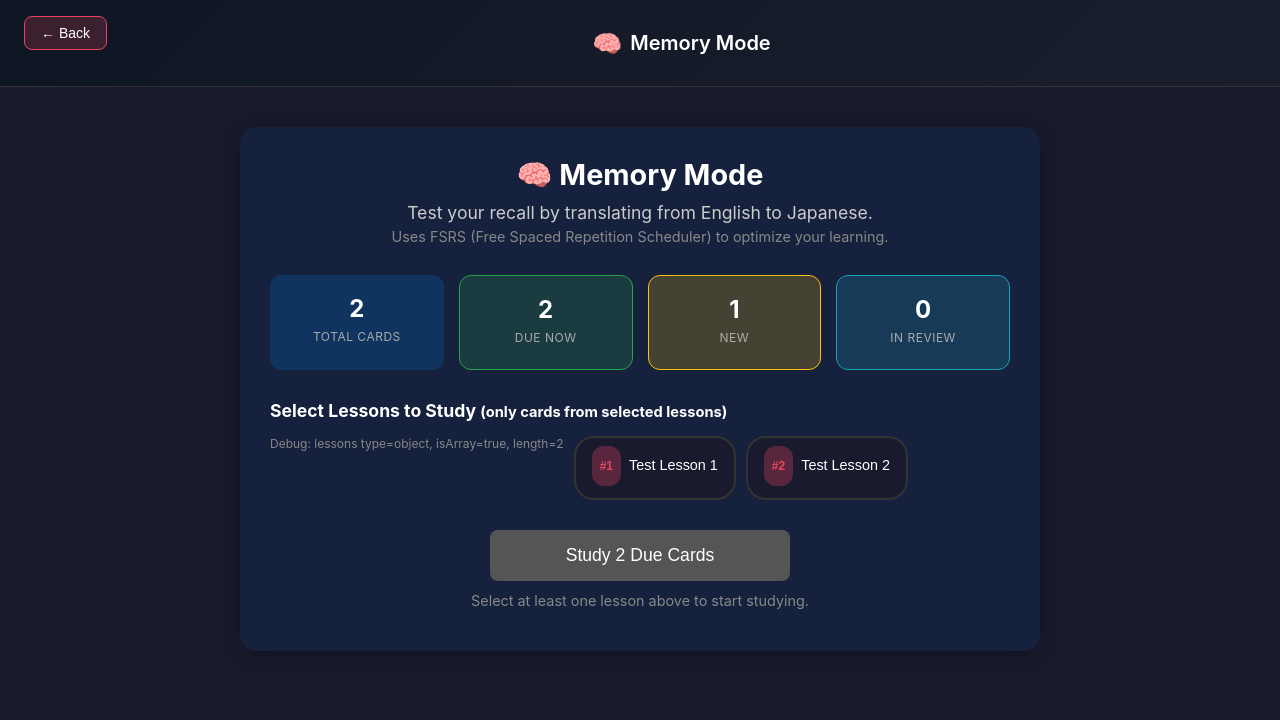
Test: MemoryMode — Study Session Flow › should import vocabulary from selected lessons when starting
Click the text "Test Lesson 1": (673, 465) [629, 457, 718, 473]
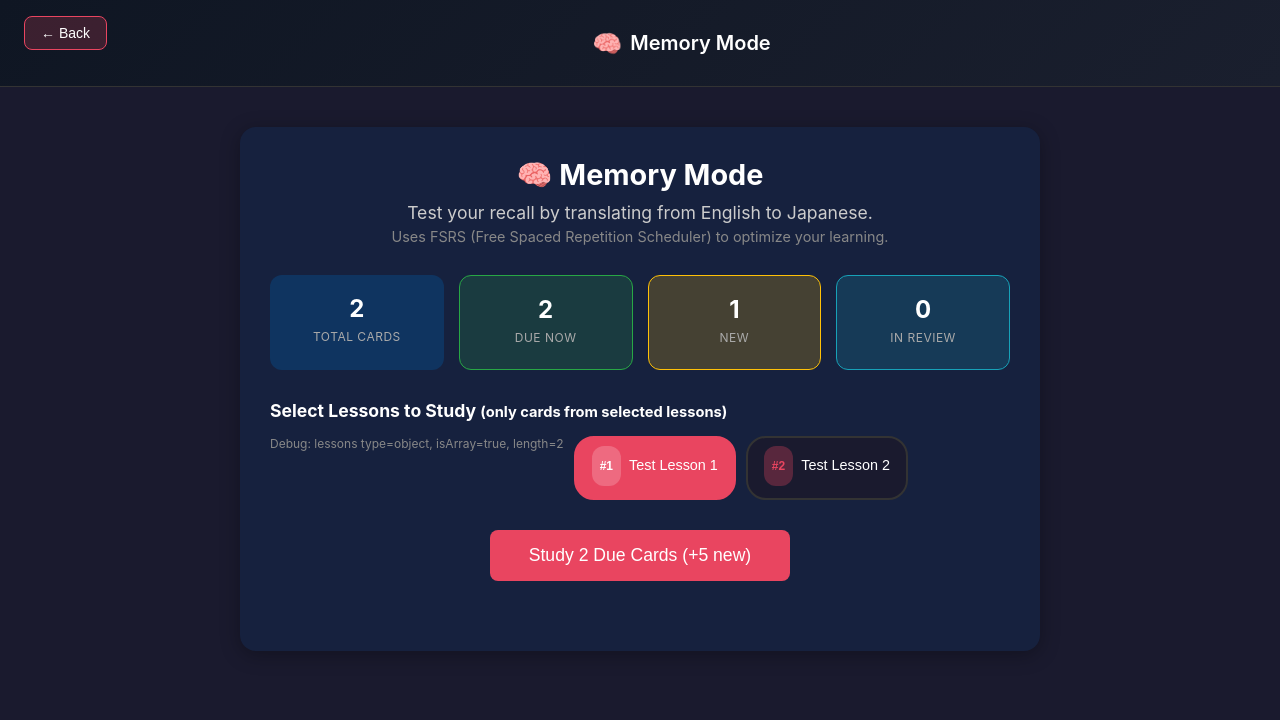
Click the button "Study 2 Due Cards (+5 new)": (640, 555) [490, 530, 790, 581]
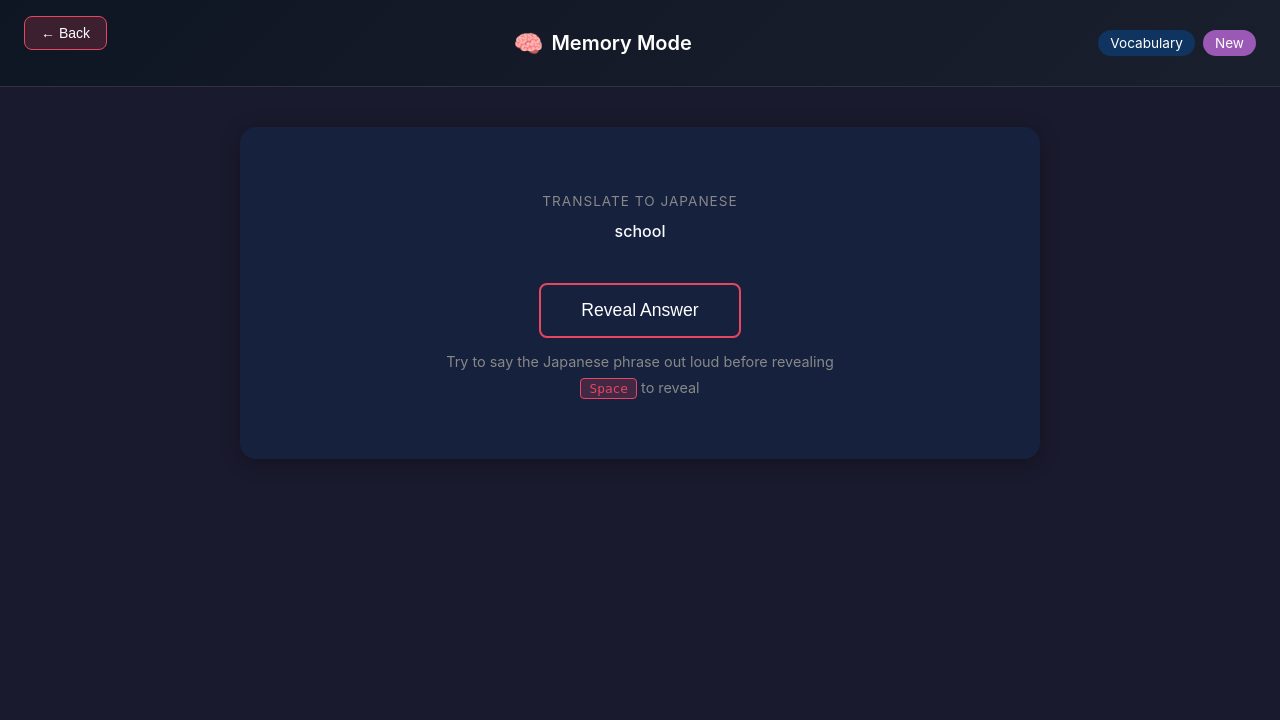
Now the text "school" is shown, box [615, 221, 665, 241]
